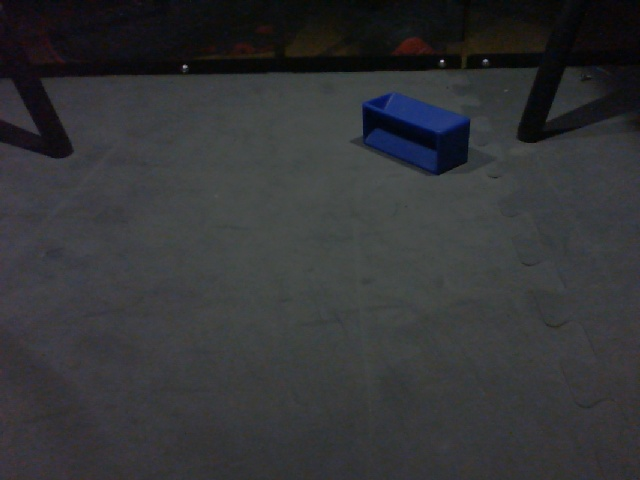BlueSample: (360, 90, 471, 181)
